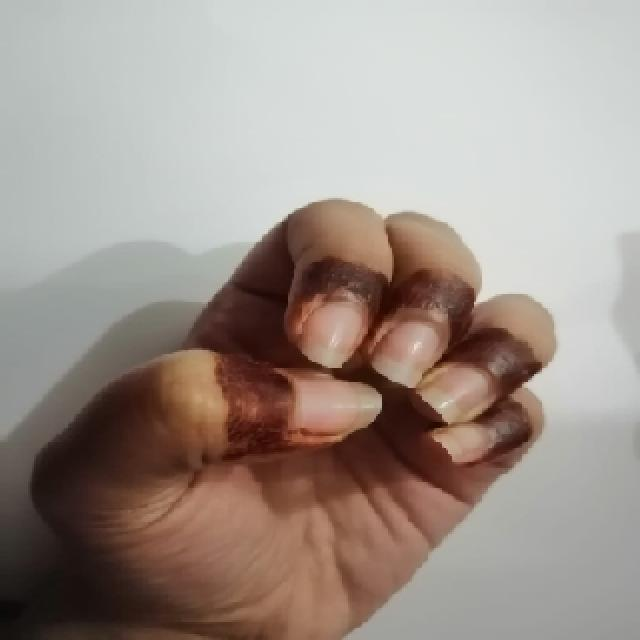Nail: (295, 380, 383, 437), (371, 321, 440, 387), (415, 368, 490, 425), (300, 305, 361, 367), (430, 427, 484, 460)
